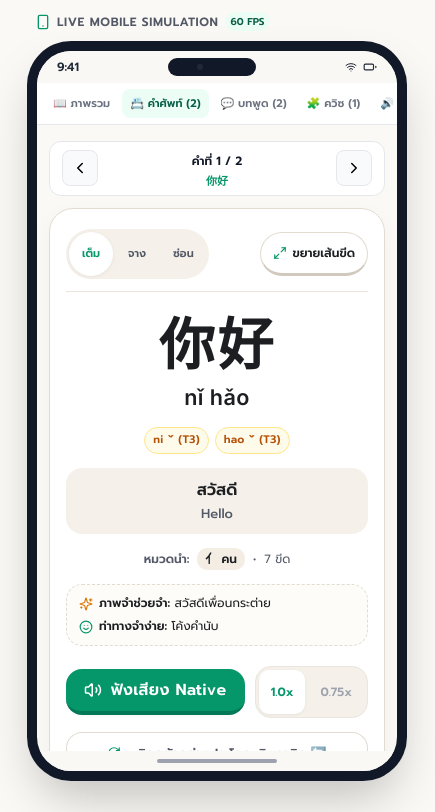
MobilePreviewFrame Component (TASK-604) › navigates vocabulary carousel with next and previous buttons
Check: the element with test id "preview-view-vocab" is shown, box [49,137,385,751]
// Click next vocab
Click the button with test id "next-vocab-btn".
click(354, 168)  # box [336,150,372,186]
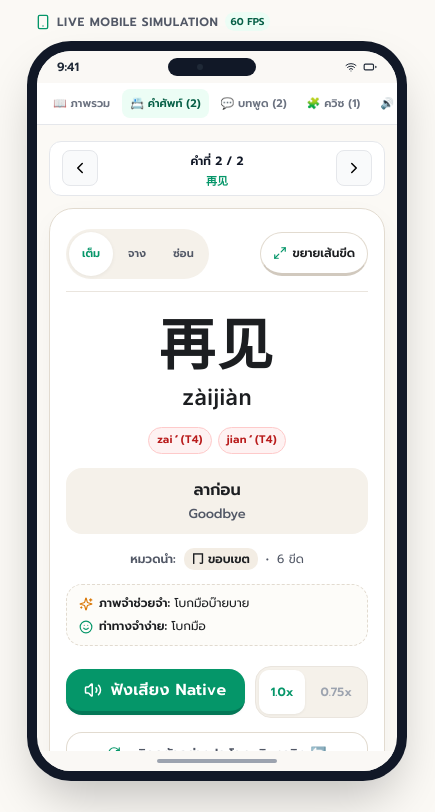
Check: the text "คำที่ 2 / 2" is shown, box [190,152,244,170]
Check: the text "再见" is shown, box [206,172,228,188]
// Click prev vocab
Click the button with test id "prev-vocab-btn".
click(80, 168)  # box [62,150,98,186]
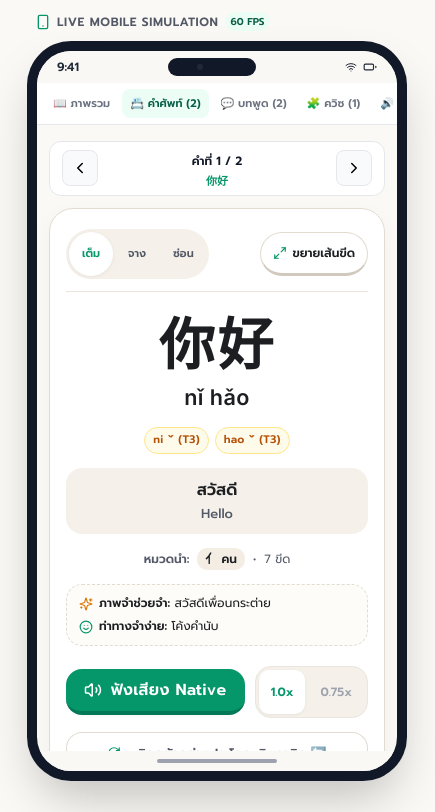
Check: the text "คำที่ 1 / 2" is shown, box [192,152,242,170]
